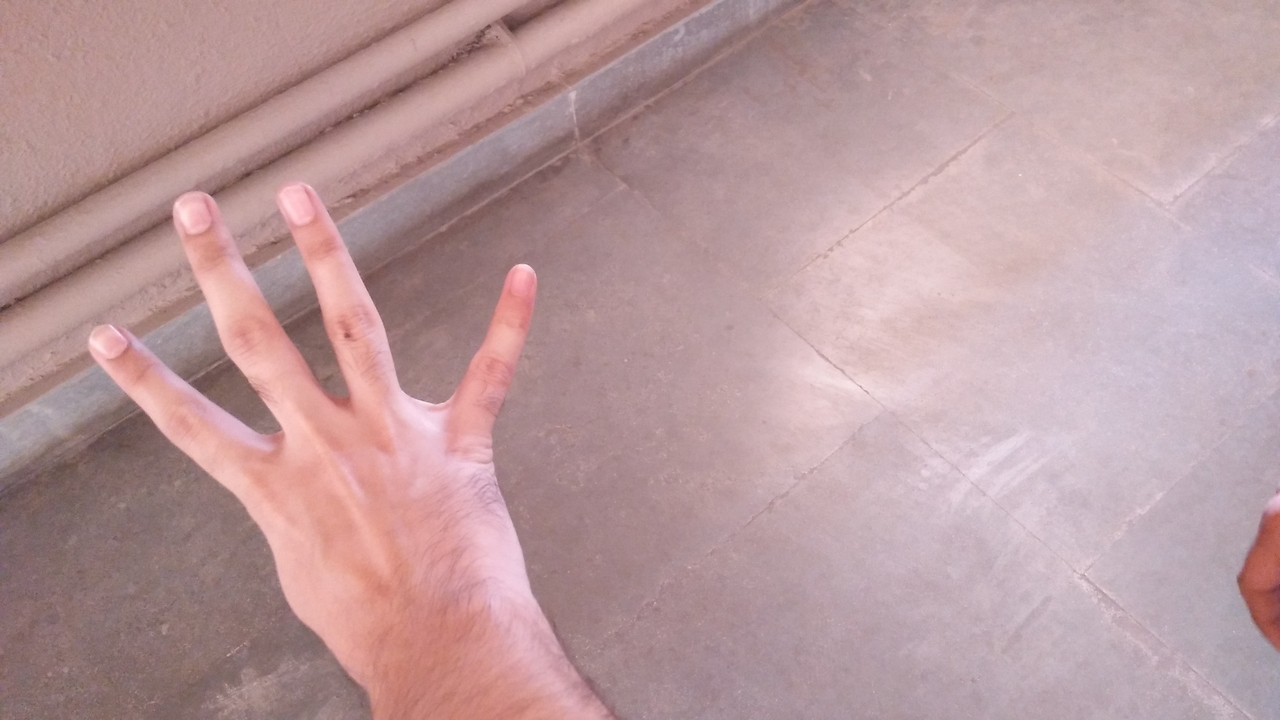fingertip: (260, 172, 330, 236), (160, 182, 222, 246), (76, 314, 144, 368), (486, 252, 542, 308)
